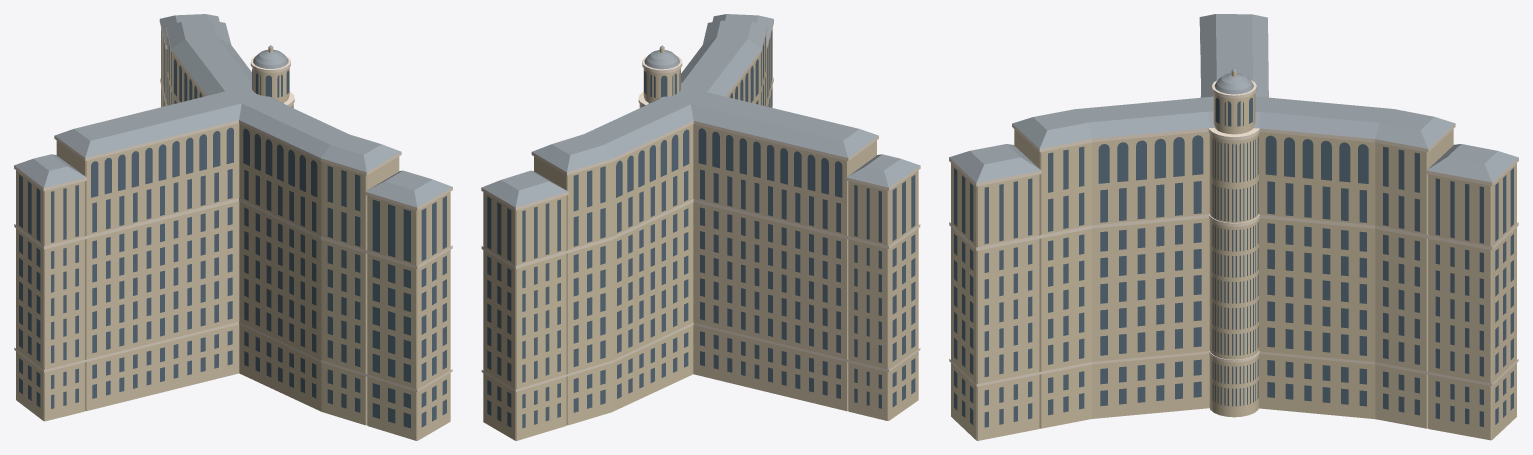
The model's file is lv-bellagio.glb.
The picture shows the model from 3 angles, left to right: view 1: azimuth 30°, elevation 25°; view 2: azimuth 150°, elevation 25°; view 3: azimuth 270°, elevation 25°; orthographic projection. The views are drawn at different scales.
Visible parts, largest first — view 1: Bellagio; view 2: Bellagio; view 3: Bellagio.
Boxes of the visible parts, x1,y1,x2,y2 form: Bellagio: (14, 14, 452, 440); Bellagio: (481, 14, 920, 440); Bellagio: (949, 14, 1518, 440).
Size of the model in its own units: 162 by 154 by 236.
